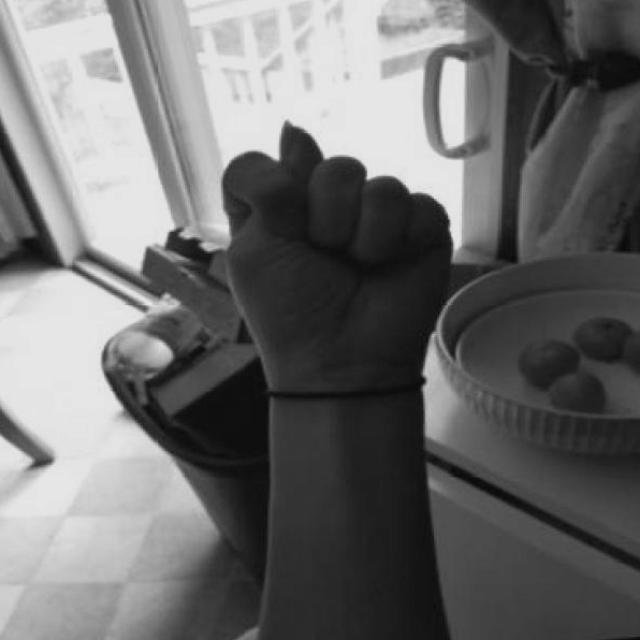T: (220, 111, 460, 463)
